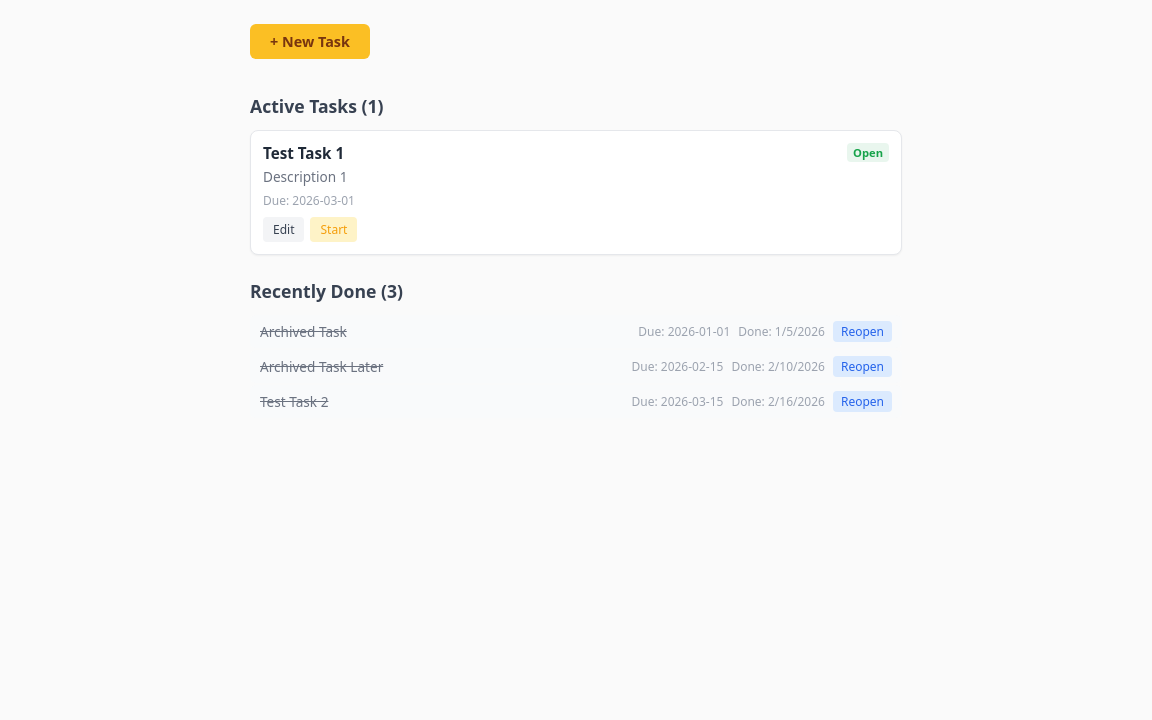
Test: ListView › should open edit modal when Edit button clicked on active task
The width and height of the screenshot is (1152, 720).
Check: the text "Test Task 1" is shown, box left=263, top=143, right=344, bottom=163
Check: the text "Test Task 2" is shown, box left=260, top=392, right=328, bottom=411
Click the button "Edit" at {"x": 284, "y": 229}, box left=263, top=217, right=304, bottom=242
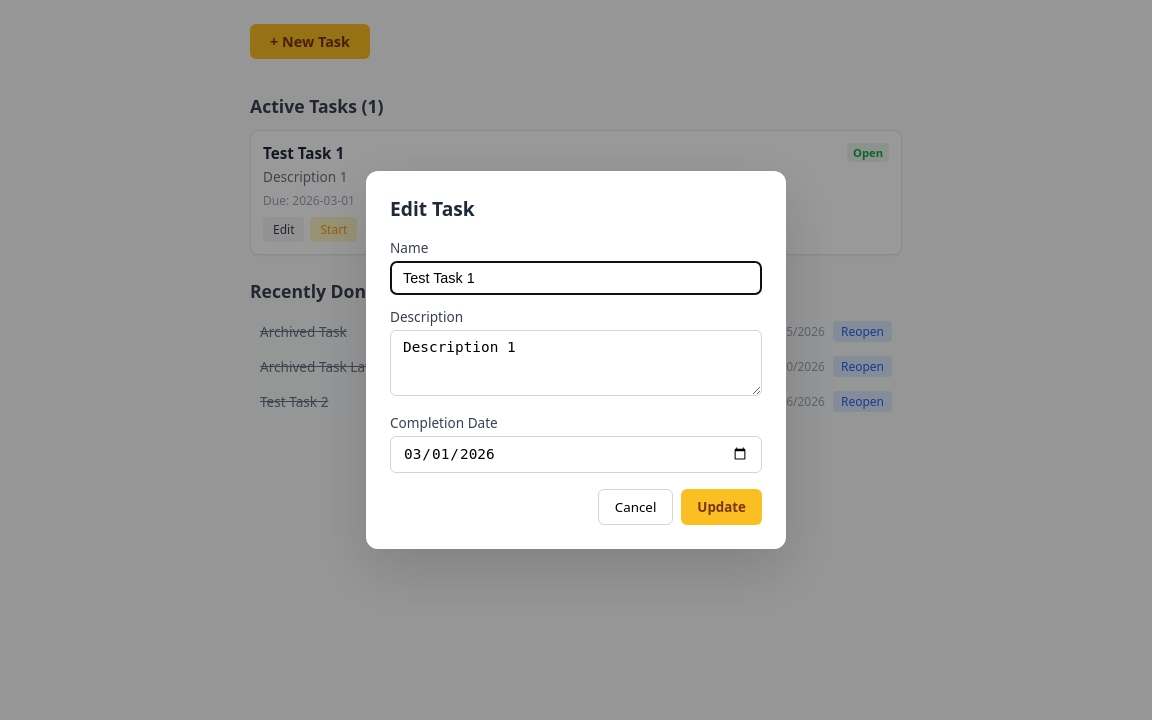
Check: the heading "Edit Task" is shown, box left=390, top=195, right=475, bottom=222
